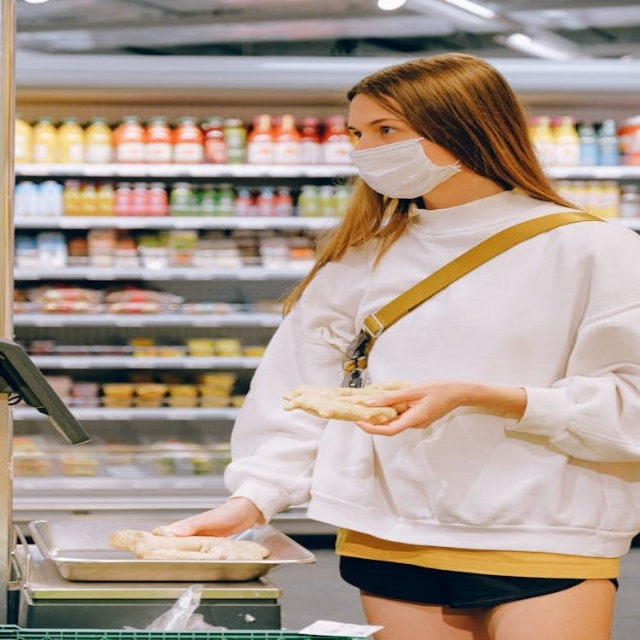Mascara: (349, 136, 466, 200)
Sin_gafas: (342, 112, 403, 141)
Sin_guantes: (353, 376, 468, 439), (148, 493, 264, 537)
